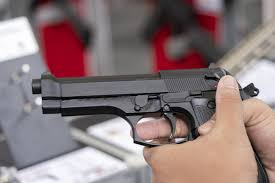gun: (27, 68, 258, 143)
